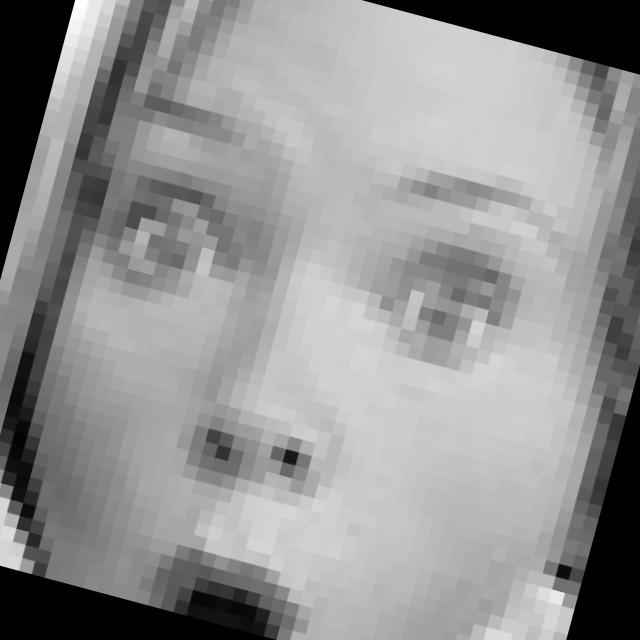surprise: (0, 81, 593, 640)
